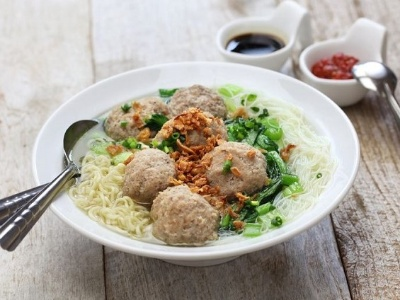bakso: (100, 84, 284, 241)
